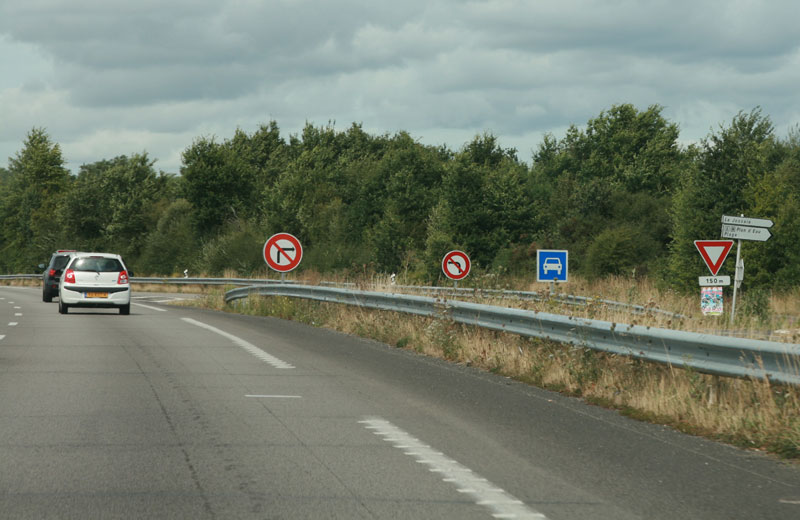No_left_turn: (441, 250, 471, 280)
No_right_turn: (263, 233, 303, 273)
